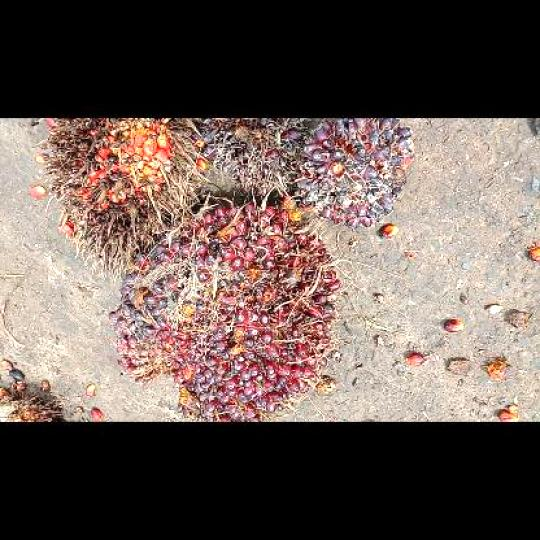masak: (106, 197, 346, 421)
terlalu masak: (34, 119, 205, 280)
